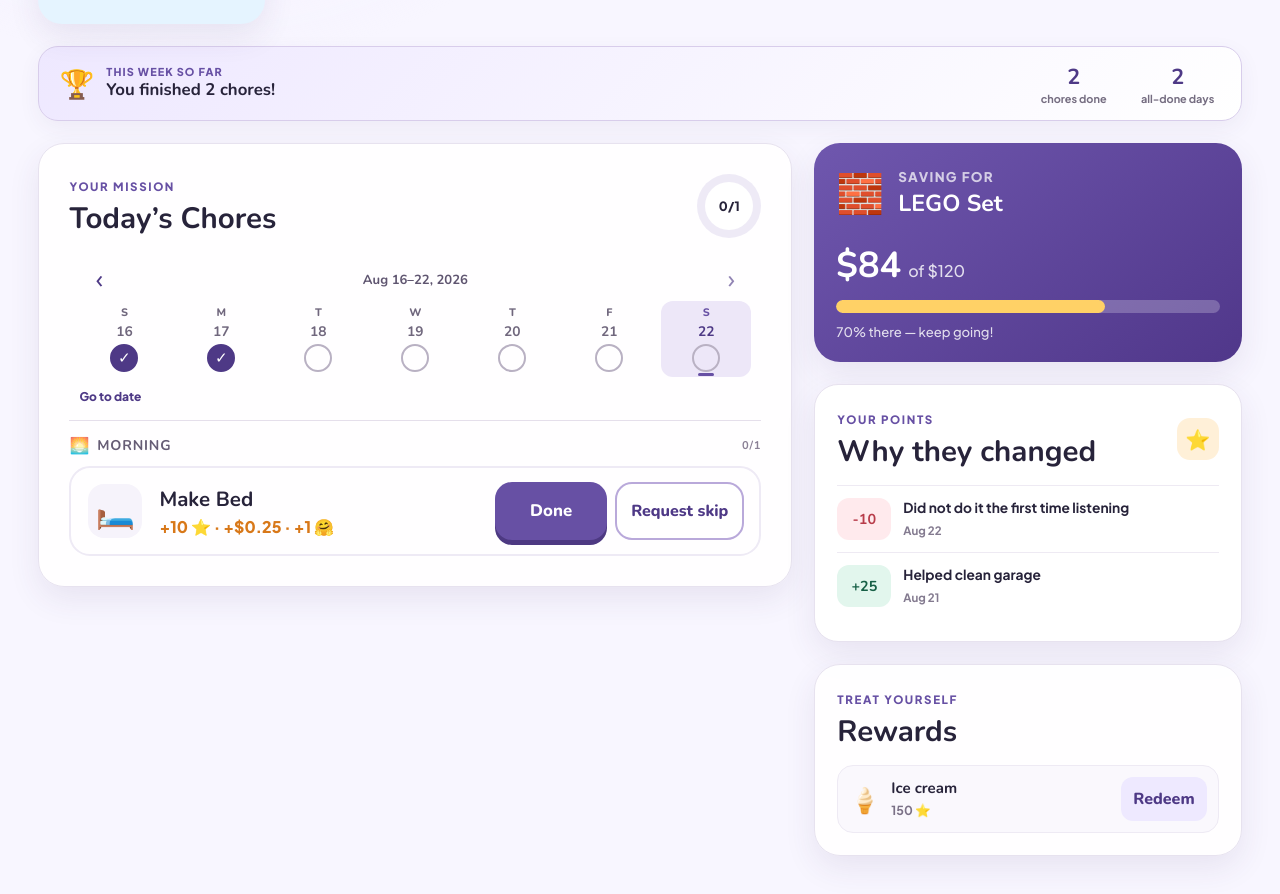
it: Kids Chores app › completes a chore and shows positive feedback
The image size is (1280, 894).
(page scrolled)
What coordinates should you click on to do the following:
click the button with aria-label "Mark Make Bed done"
I would click on:
 (551, 511)
Its box is top-left (495, 482), bottom-right (607, 540).
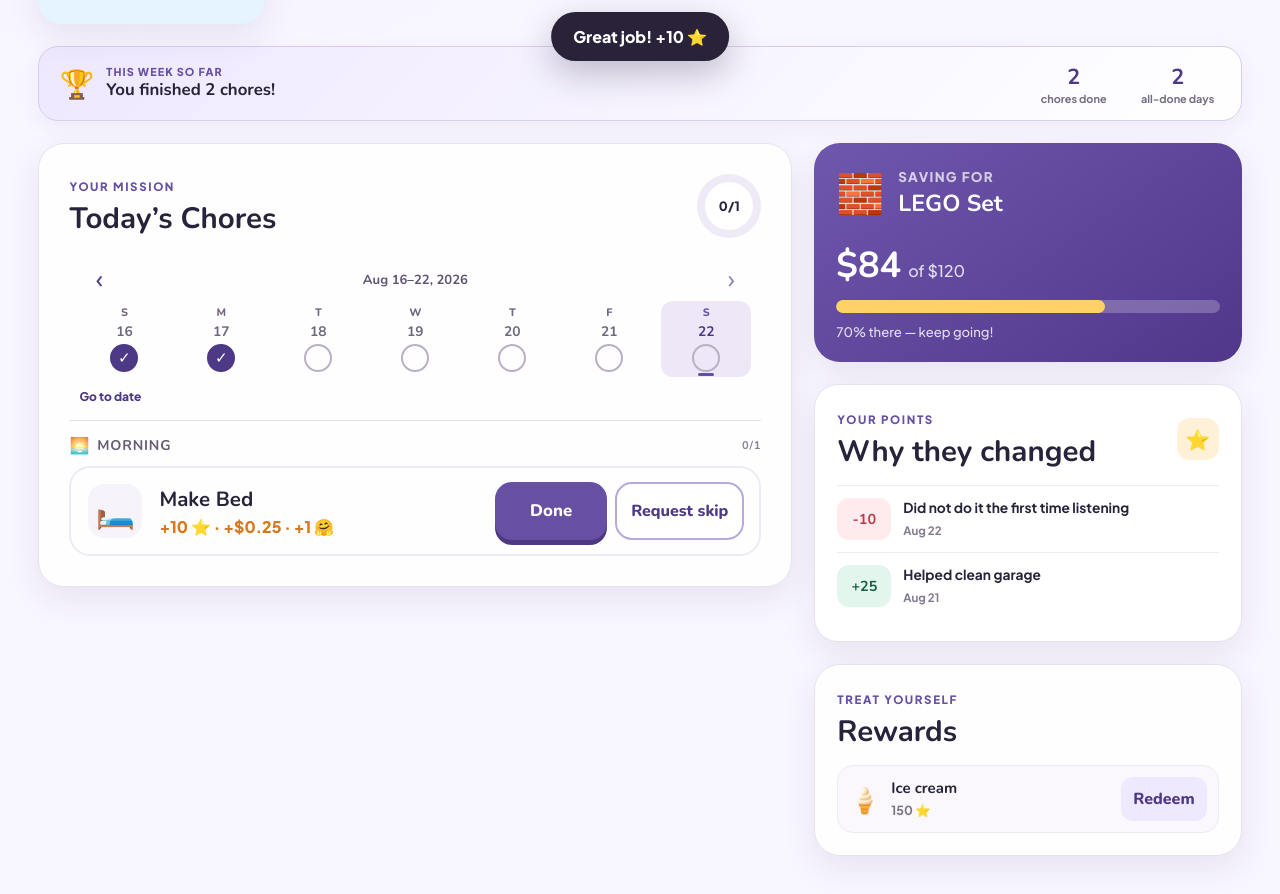
Check: the message reads "Great job! +10 ⭐", box top-left (573, 26), bottom-right (707, 47)
